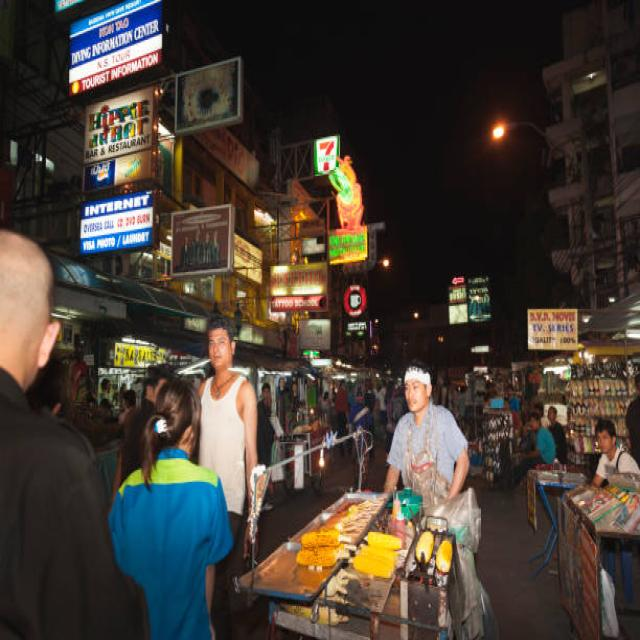Emperan: (240, 374, 513, 640)
